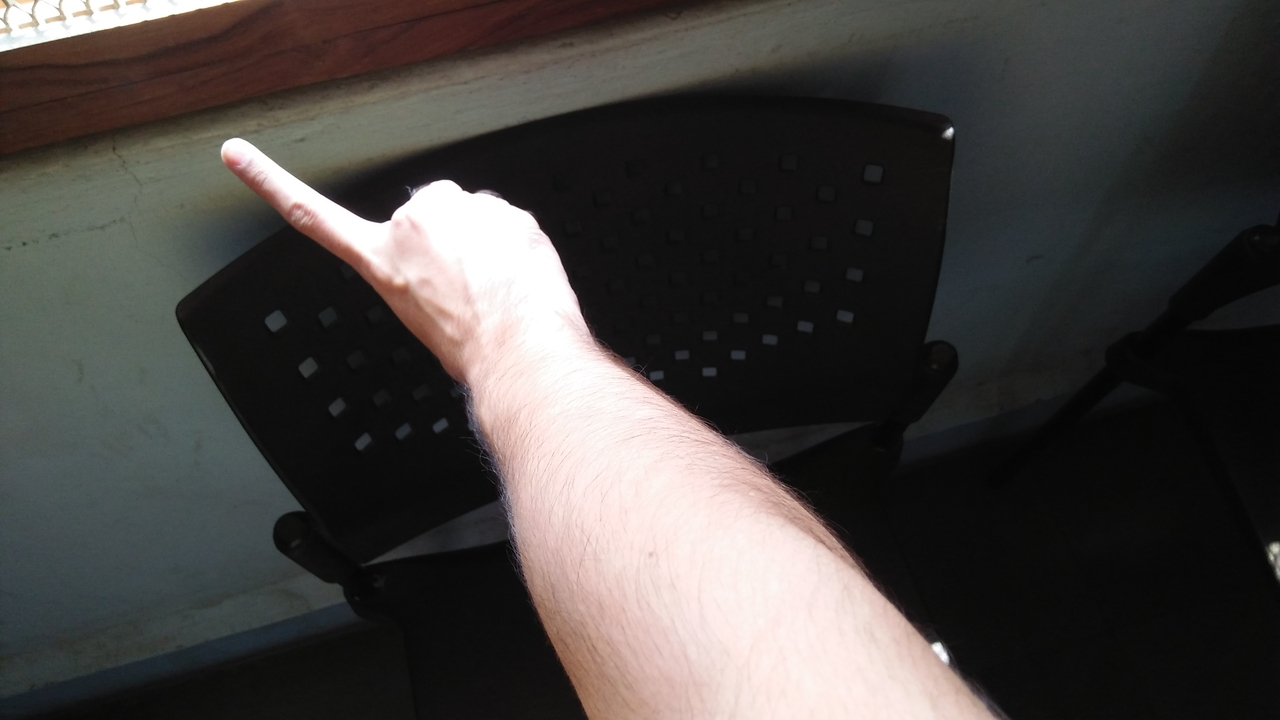fingertip: (206, 130, 260, 176)
